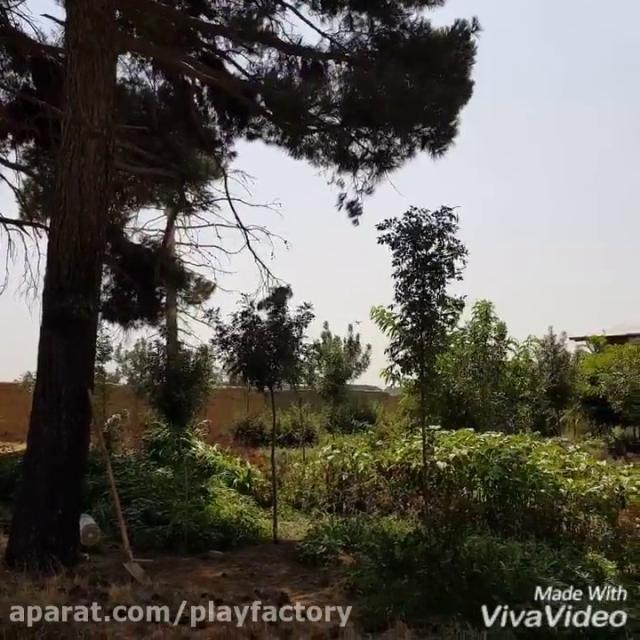drone: (352, 315, 364, 325)
